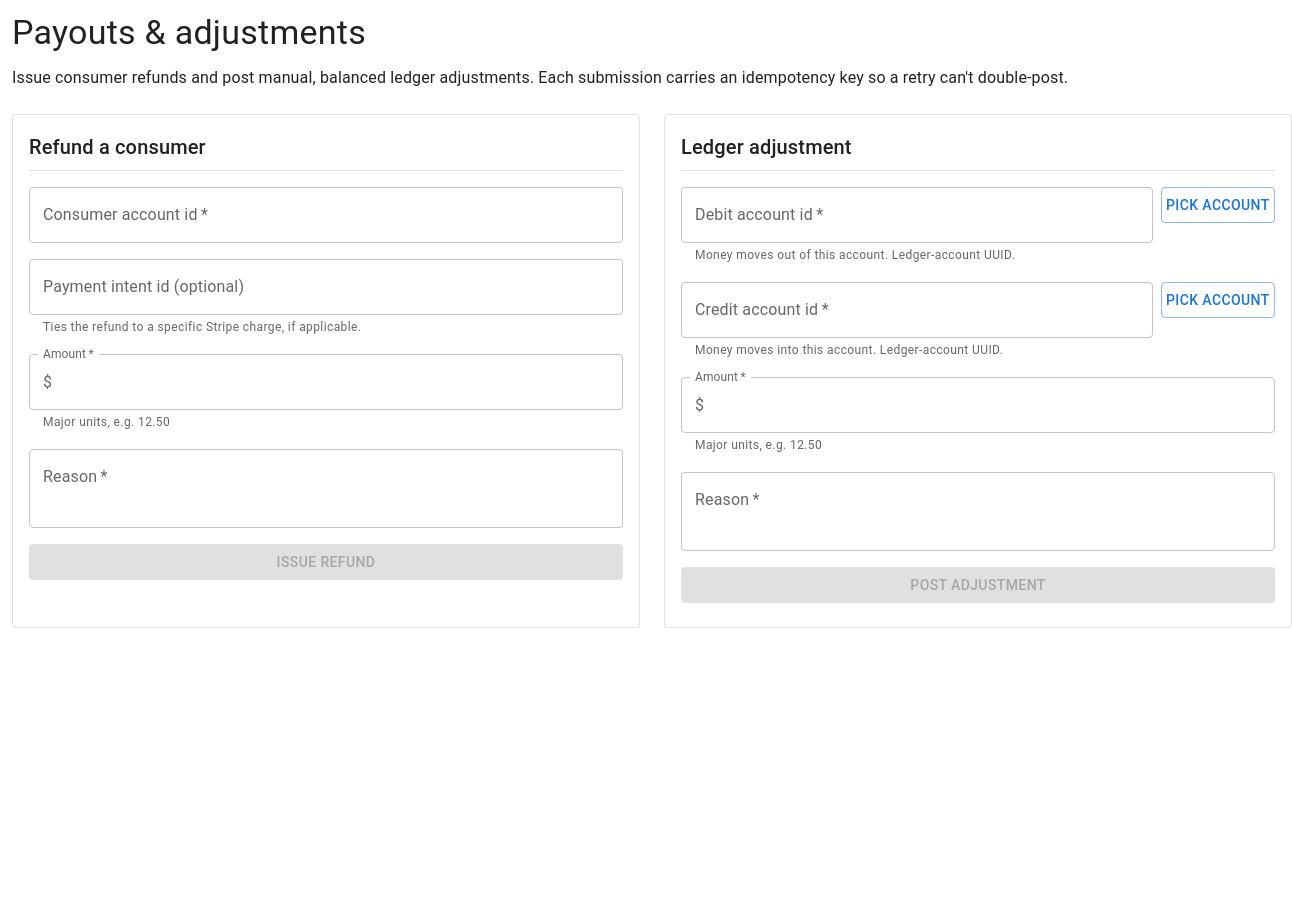
Test: PayoutsPanel › previews kind, owner, and balance for each typed account (debounced UUID lookup)
Type "11111111-1111-1111-1111-111111111111" into the field named "Adjustment debit account id" at (917, 215), box [681,187,1153,243]
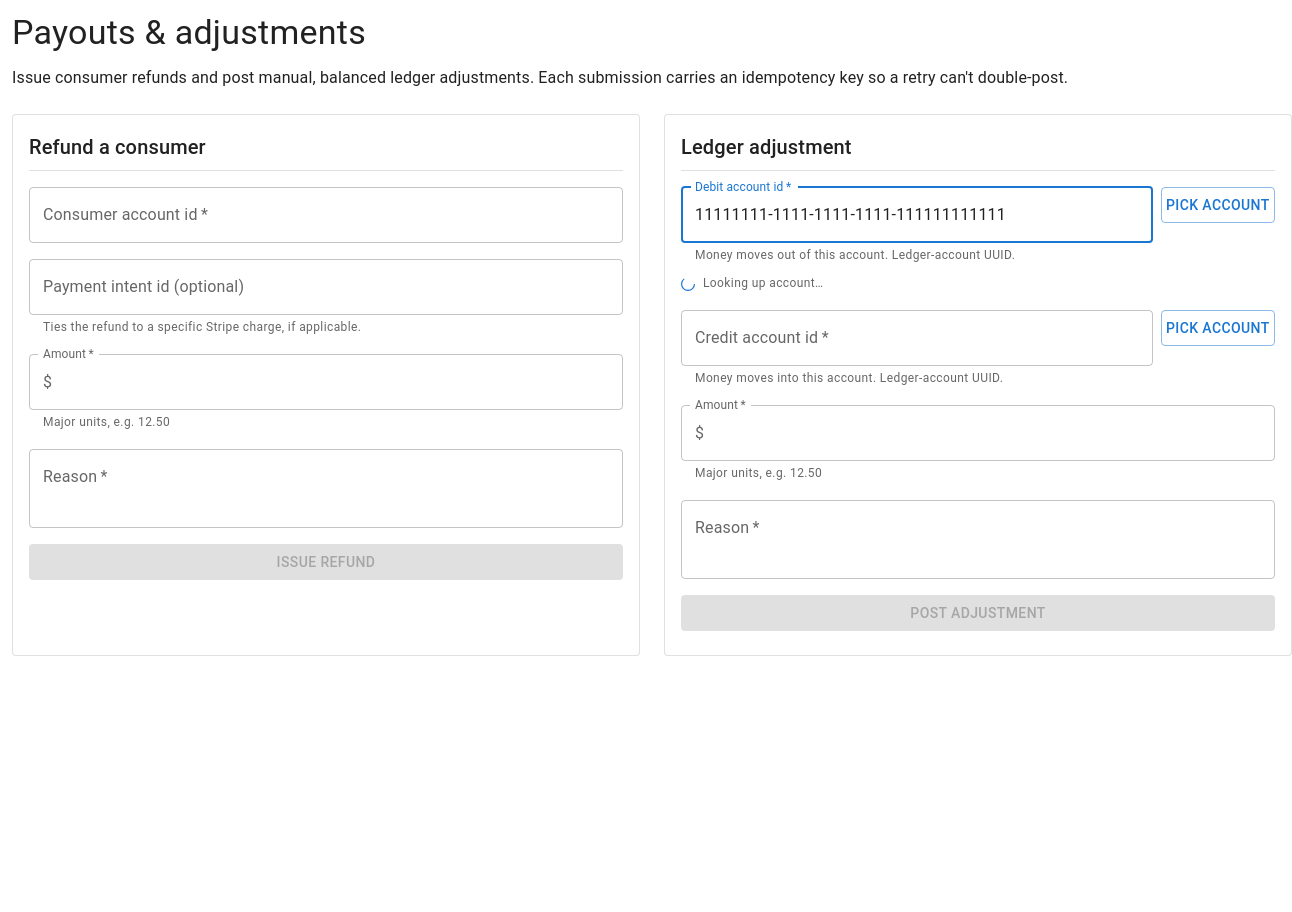
Type "22222222-2222-2222-2222-222222222222" into the field named "Adjustment credit account id" at (917, 338), box [681,310,1153,366]
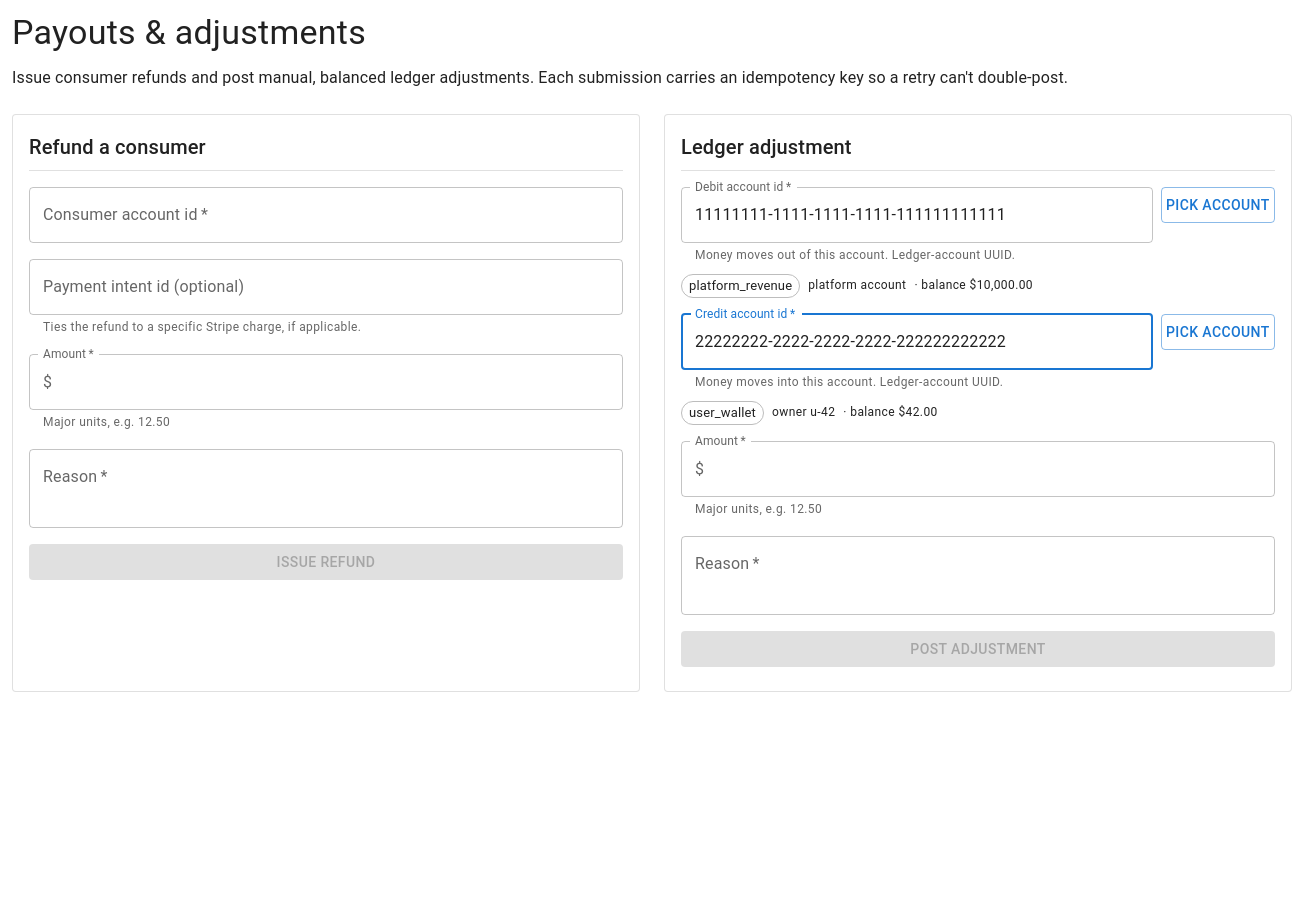
Now the text "platform_revenue" is shown, box [682,276,799,296]
Now the text "platform account" is shown, box [808,276,906,296]
Now the text "· balance $10,000.00" is shown, box [914,276,1033,296]
